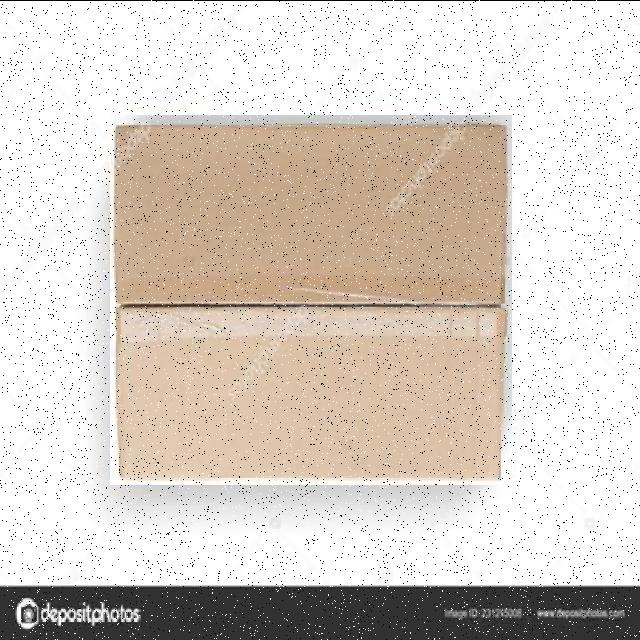normal: (110, 114, 512, 484)
